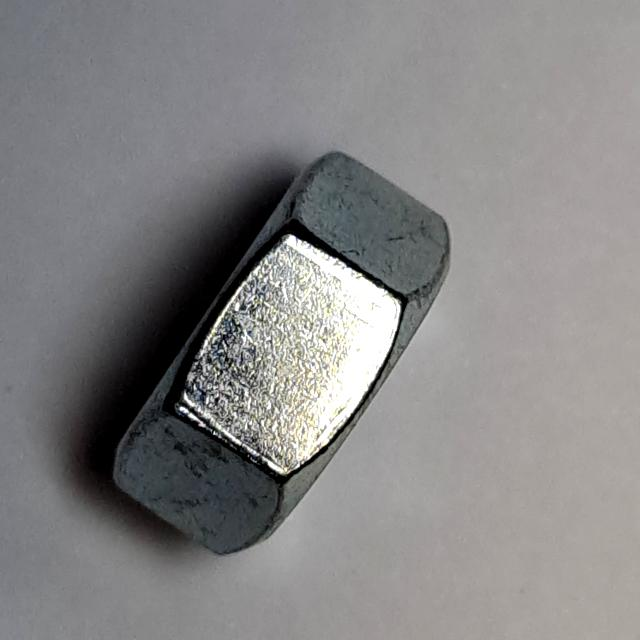Side_Excellent: (86, 130, 502, 581)
